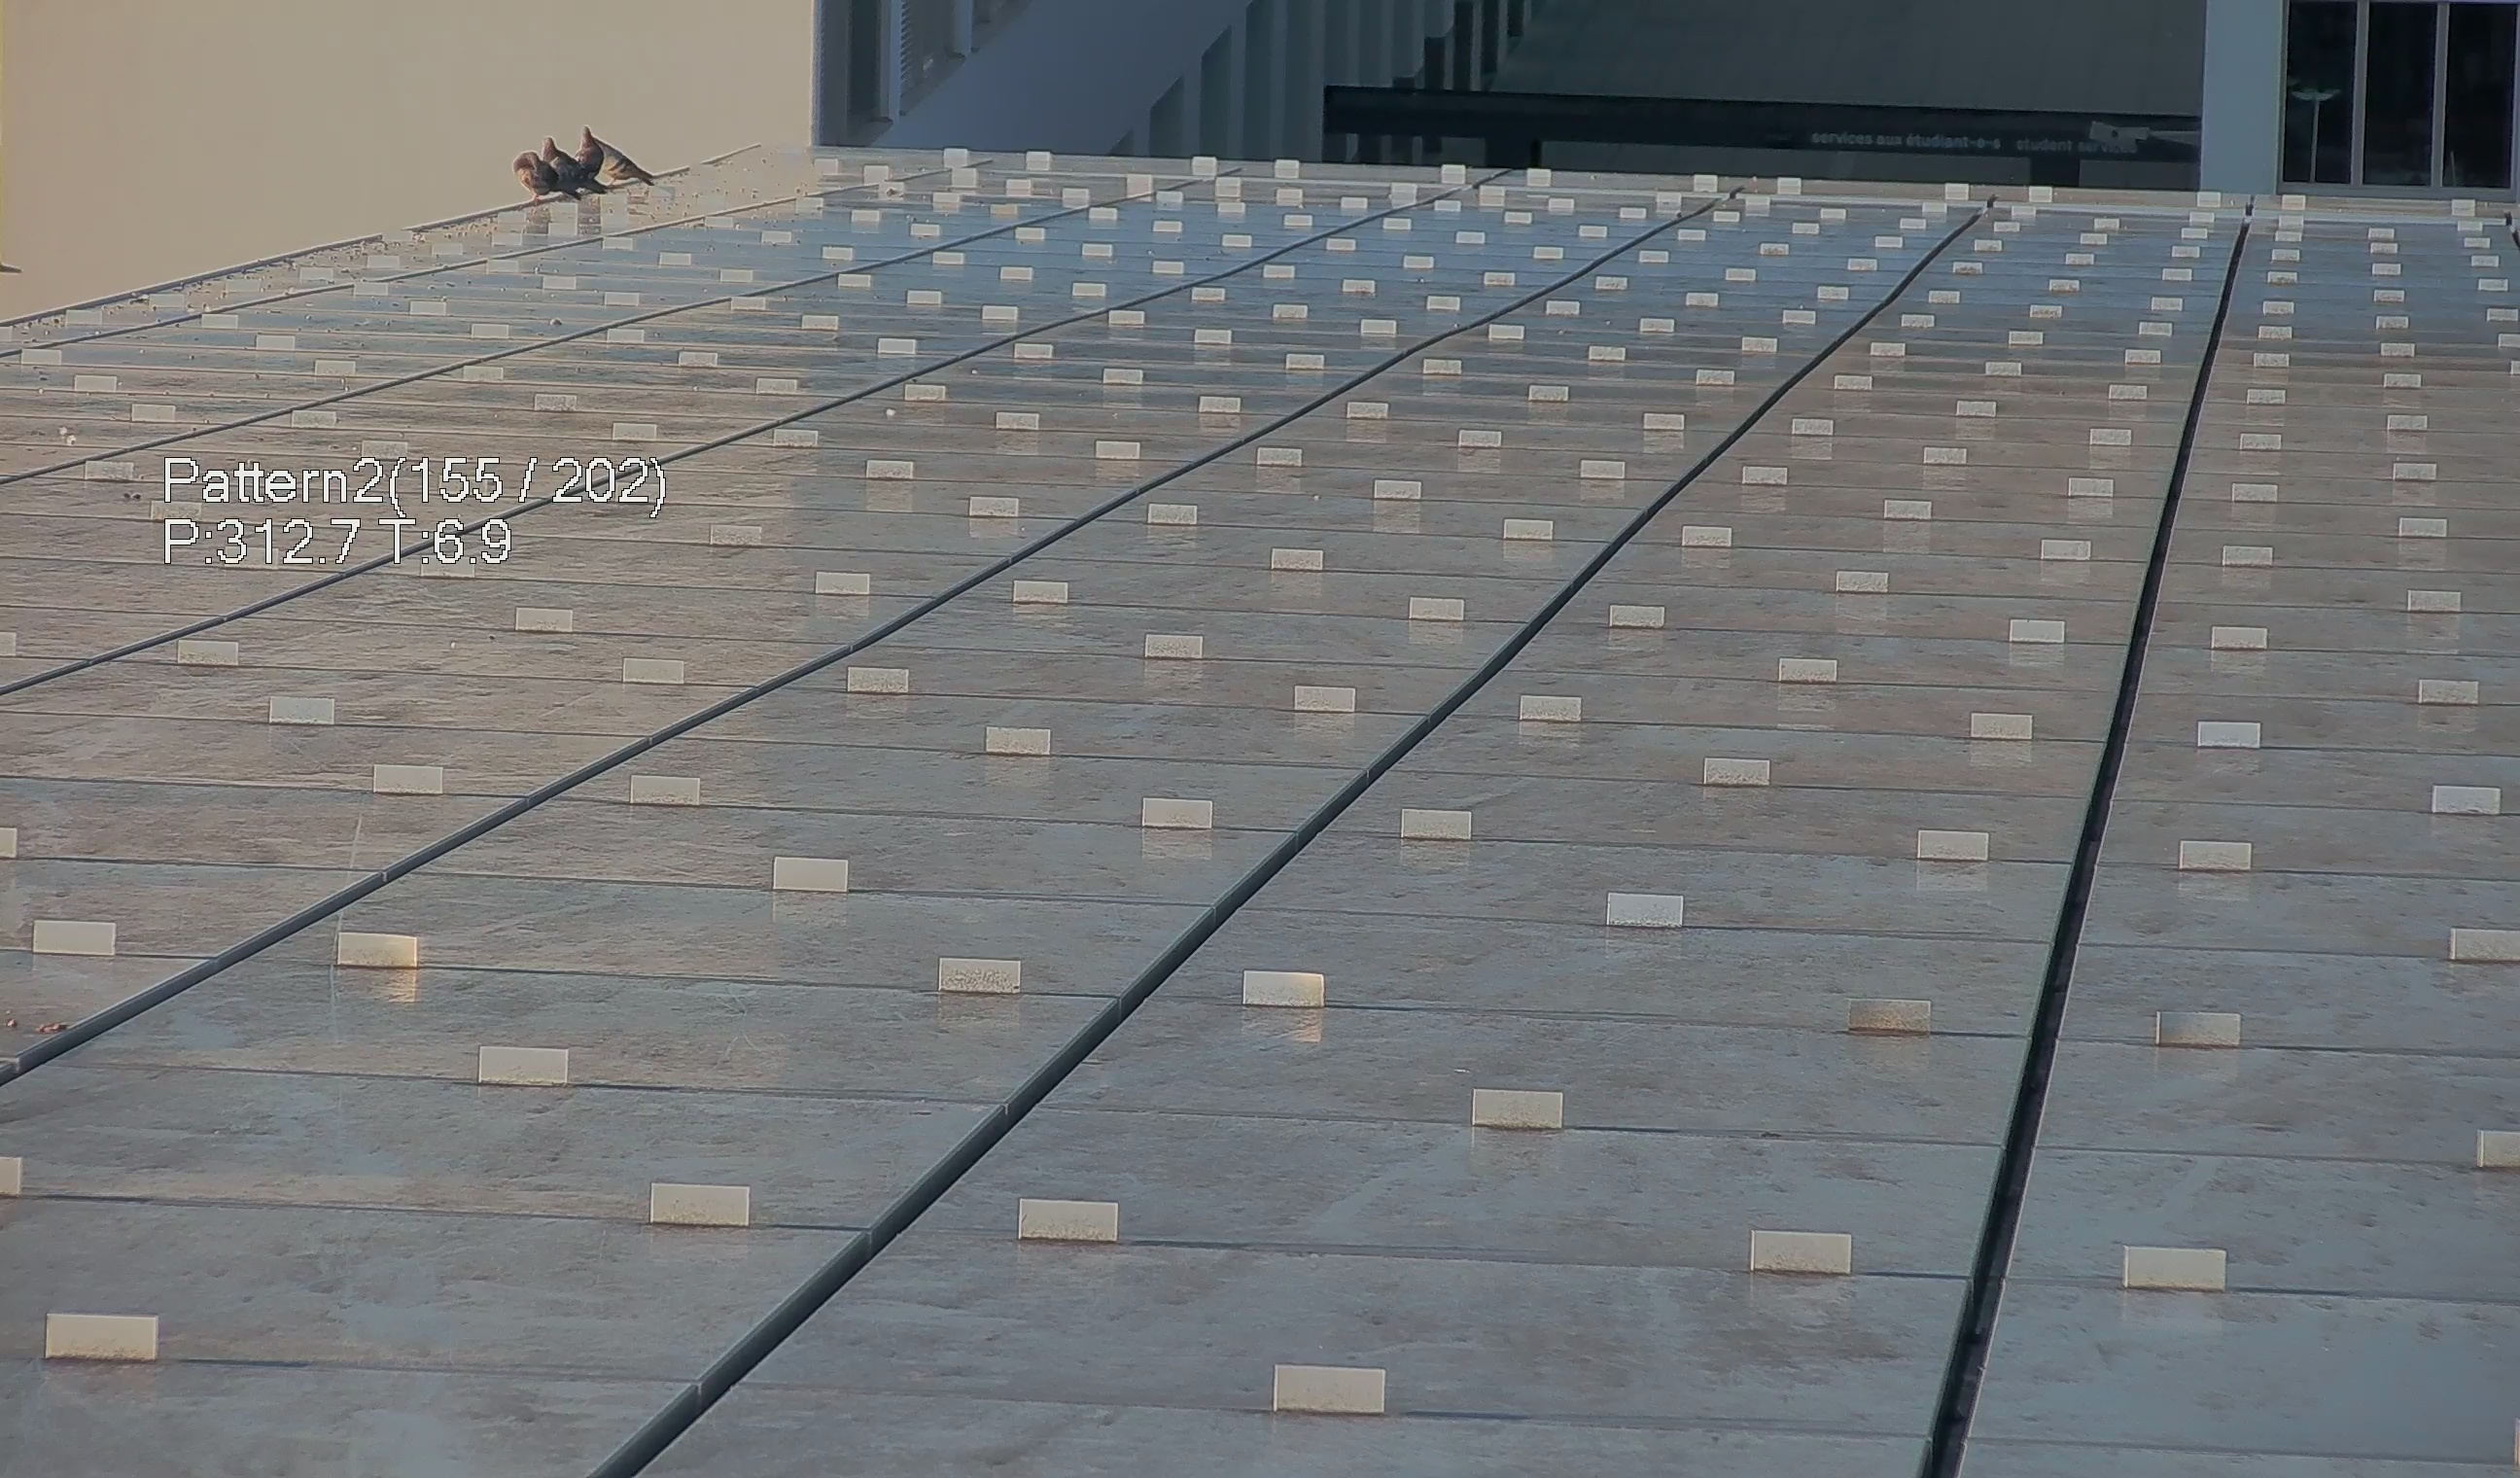Pigeon: (542, 134, 612, 201), (510, 148, 580, 202), (587, 135, 656, 187), (575, 127, 605, 183)
